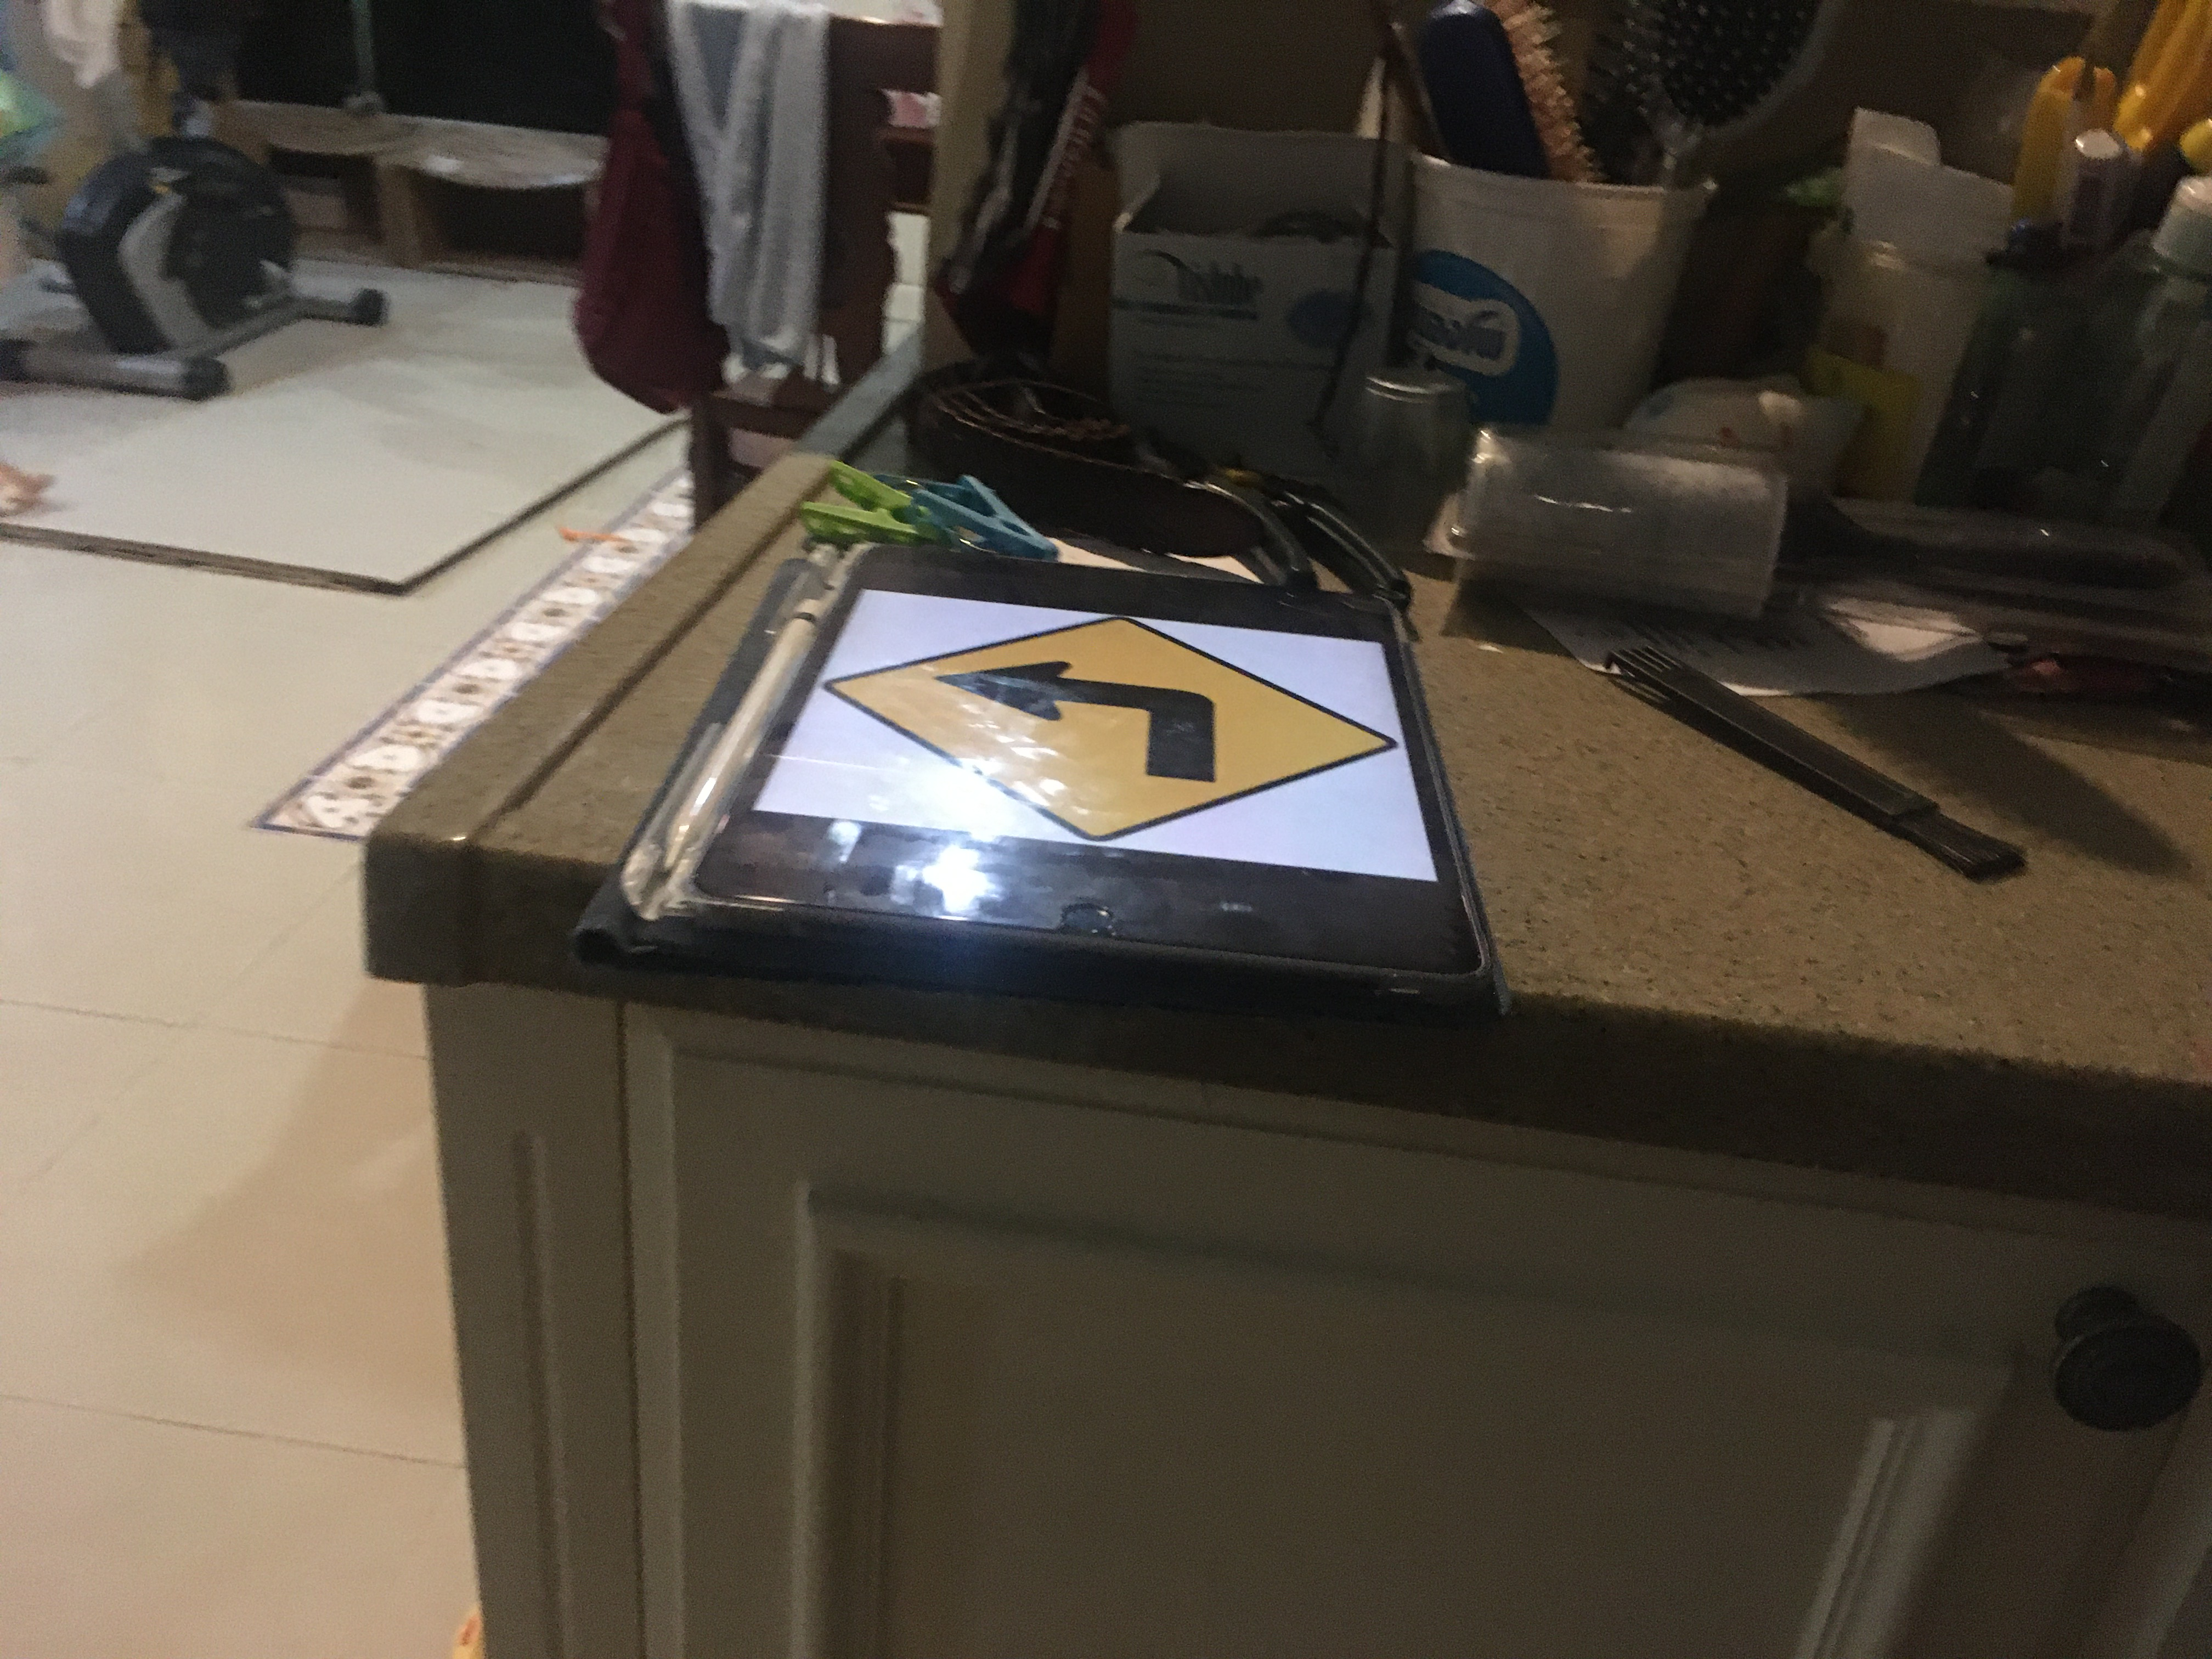left: (811, 607, 1417, 857)
